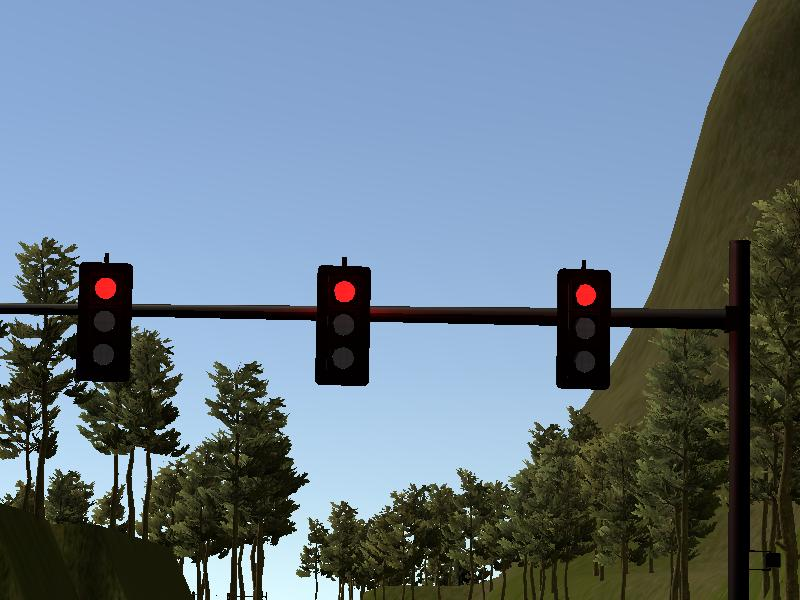red: (75, 259, 132, 382), (315, 263, 371, 388), (557, 266, 612, 392)
